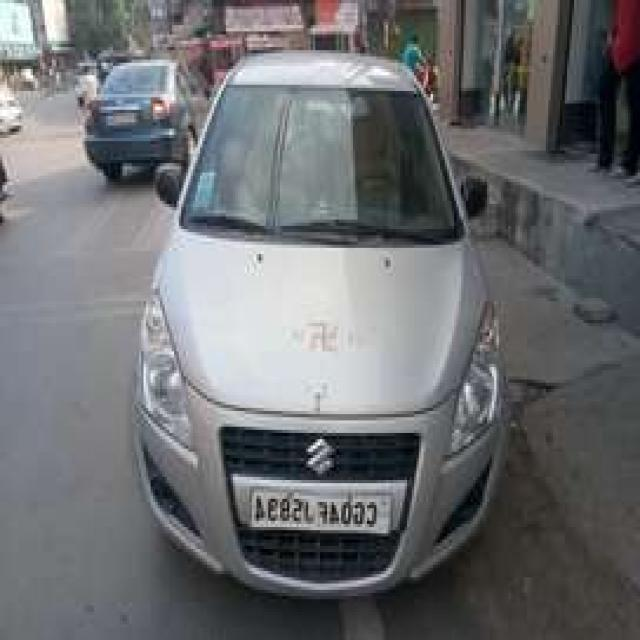license_plate: (249, 488, 393, 536)
